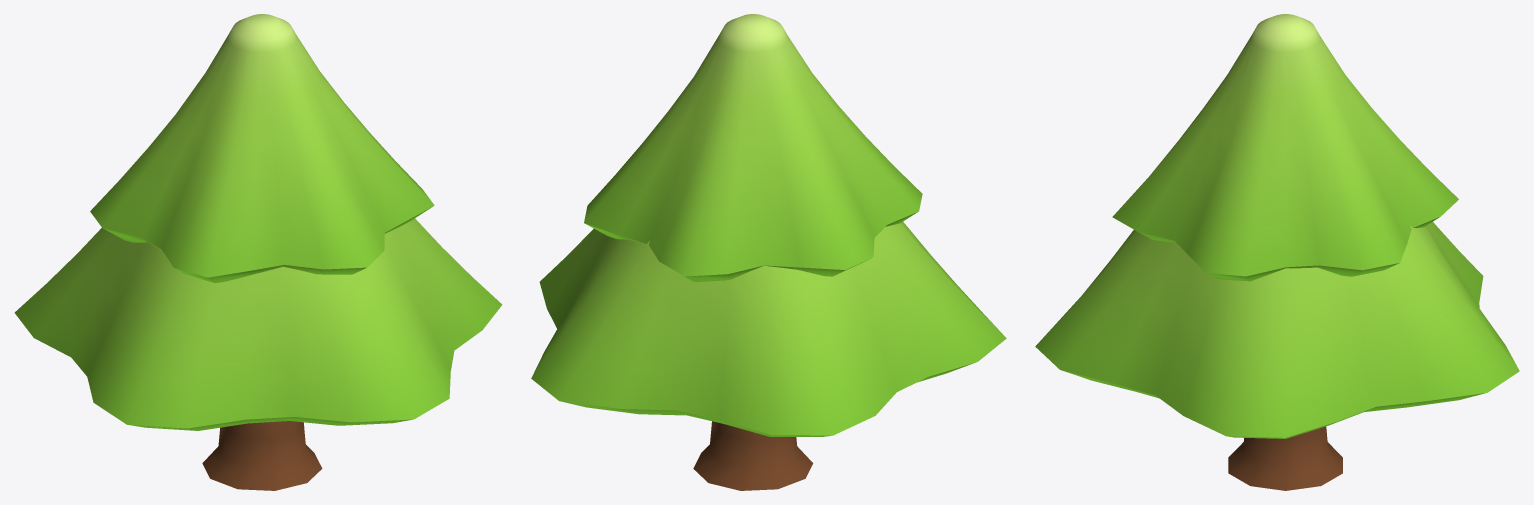
Rendered from pine_stubby.glb.
The picture shows the model from 3 angles, left to right: view 1: azimuth 30°, elevation 25°; view 2: azimuth 150°, elevation 25°; view 3: azimuth 270°, elevation 25°; orthographic projection.
Visible parts, largest first — view 1: pine_stubby; view 2: pine_stubby; view 3: pine_stubby.
Boxes of the visible parts, <box> form: pine_stubby: <box>14,14,502,490</box>; pine_stubby: <box>531,14,1006,490</box>; pine_stubby: <box>1035,14,1519,490</box>.
Size of the model in its own units: 12.25 by 12.69 by 12.54.
Materials: 1 (1 with a texture image).
